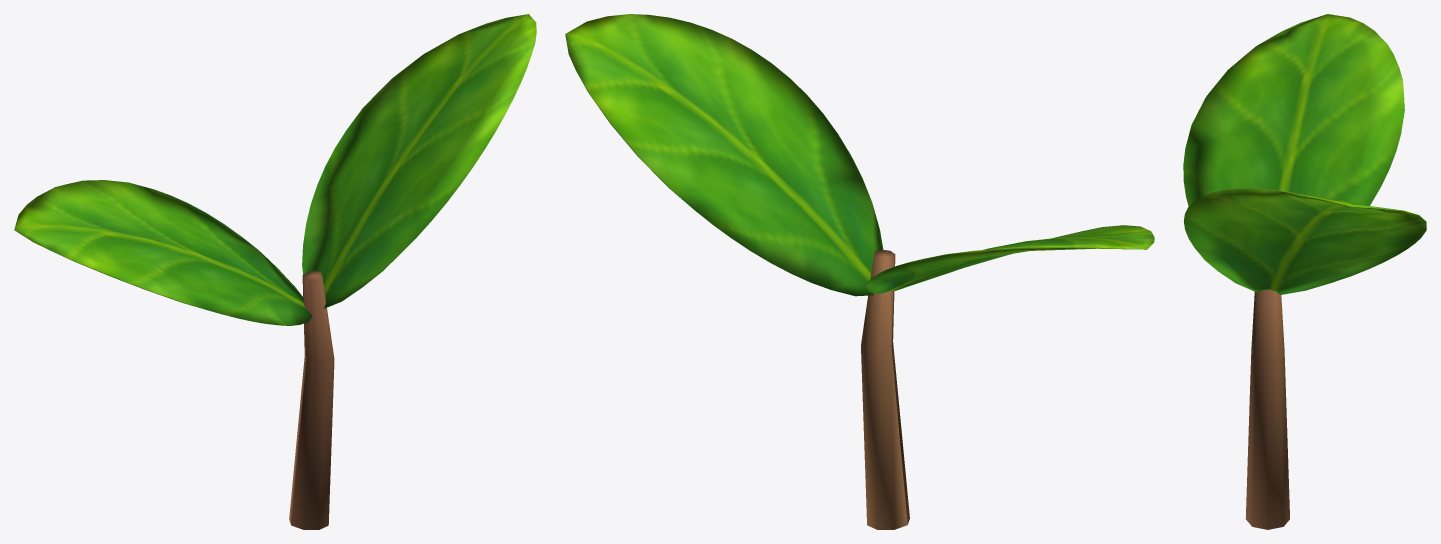
File: NP_Blueberry_Sprout_LOD1.fbx
3 views of the same model, side by side, from view 1: azimuth 30°, elevation 25°; view 2: azimuth 150°, elevation 25°; view 3: azimuth 270°, elevation 25° (orthographic). The views are drawn at different scales.
Visible parts, largest first — view 1: NP_Blueberry_Sprout; view 2: NP_Blueberry_Sprout; view 3: NP_Blueberry_Sprout.
Part boxes in pixels (x1,y1,x2,y2): NP_Blueberry_Sprout: [14, 14, 536, 529]; NP_Blueberry_Sprout: [565, 14, 1154, 529]; NP_Blueberry_Sprout: [1183, 14, 1426, 529].
Bounding box in the file's own units: 29.57 × 22.59 × 10.96.
Materials: 1 (1 with a texture image).
